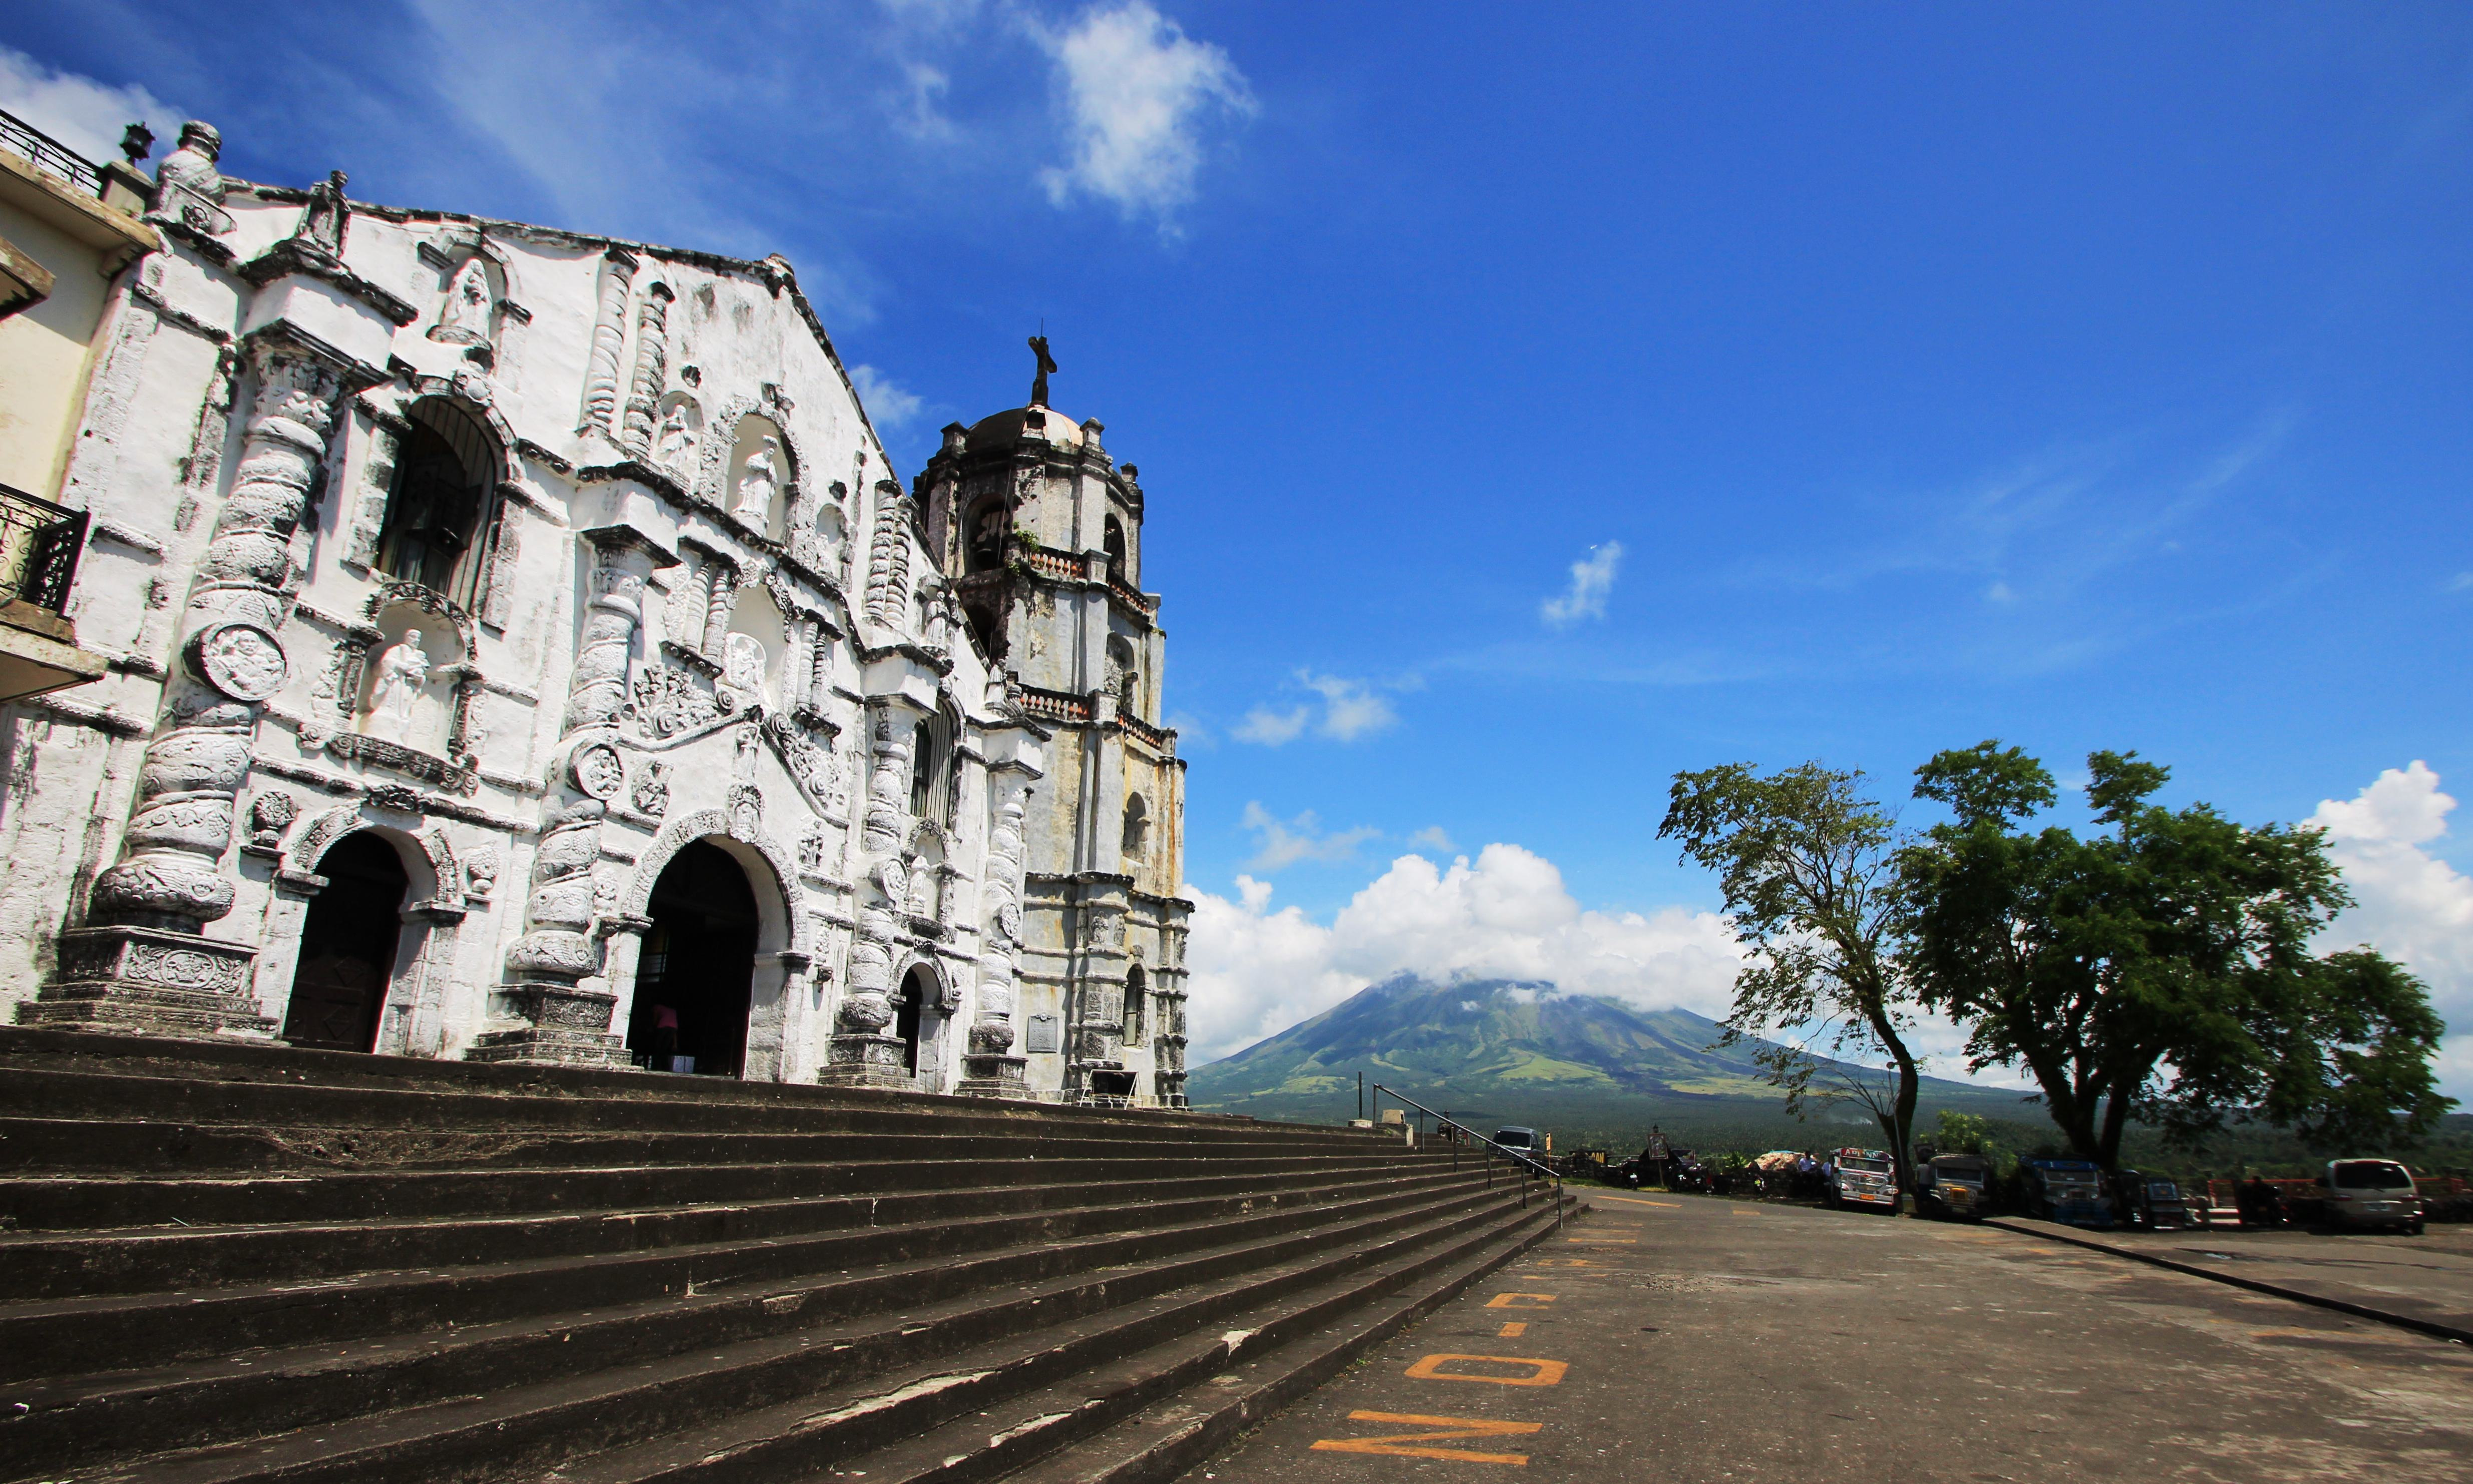daraga_church_daraga_albay: (104, 106, 1201, 1115)
